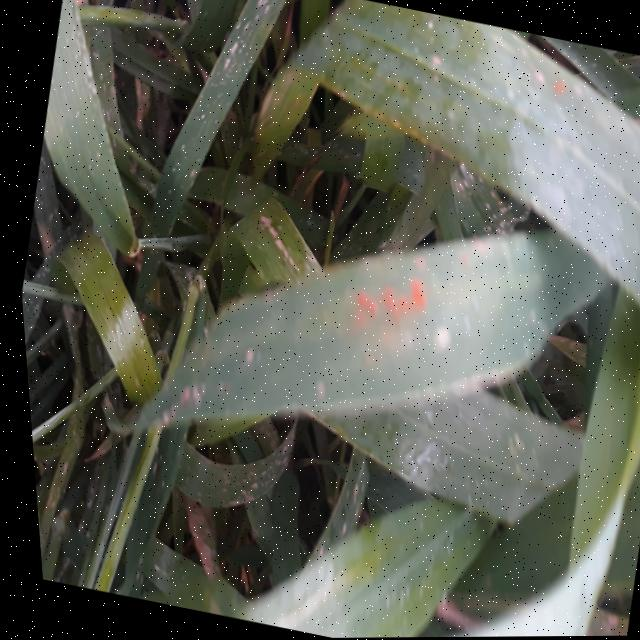orang_rust: (300, 252, 438, 355)
powder_mildew: (146, 350, 377, 588), (248, 0, 500, 188), (144, 0, 295, 251), (21, 0, 181, 205), (92, 406, 200, 603), (24, 413, 129, 592), (533, 39, 640, 185), (218, 170, 327, 303), (20, 349, 83, 579), (14, 244, 107, 354), (430, 149, 532, 239), (138, 238, 221, 313)
